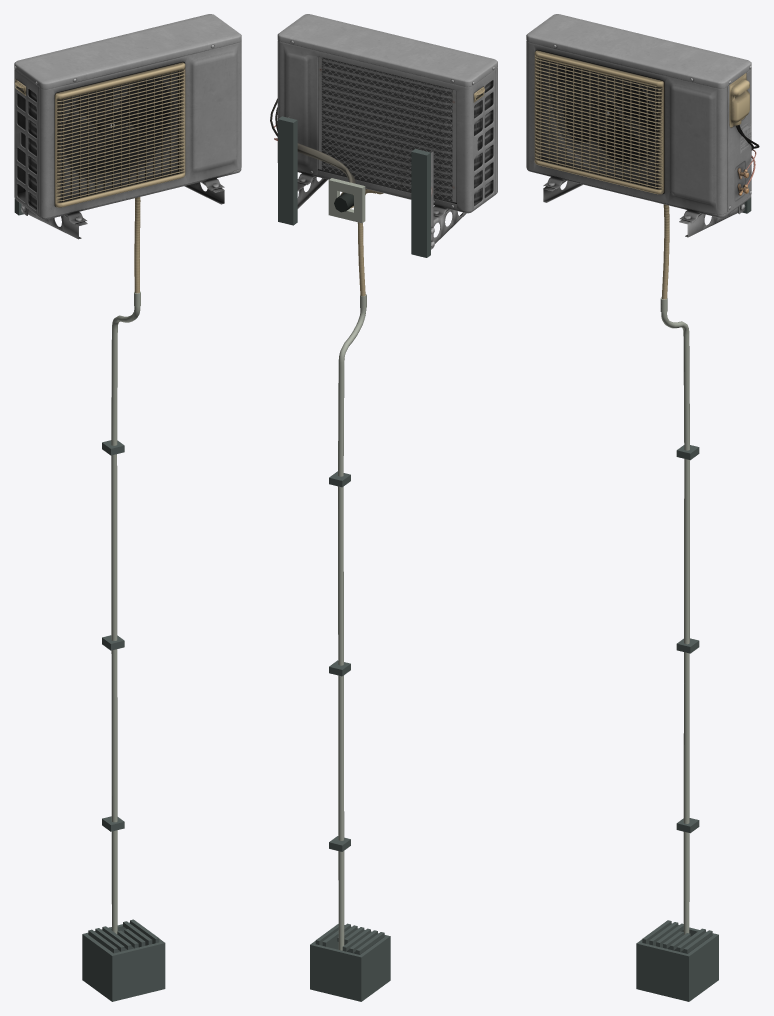
File: wall-installation.glb
The picture shows the model from 3 angles, left to right: view 1: azimuth 30°, elevation 25°; view 2: azimuth 150°, elevation 25°; view 3: azimuth 330°, elevation 25°; orthographic projection. The views are drawn at different scales.
Visible parts, largest first — view 1: VW10_AirconInstallation; view 2: VW10_AirconInstallation; view 3: VW10_AirconInstallation.
Part boxes in pixels (x1=…): VW10_AirconInstallation: x1=14, y1=14, x2=241, y2=1001; VW10_AirconInstallation: x1=270, y1=14, x2=497, y2=1001; VW10_AirconInstallation: x1=526, y1=14, x2=759, y2=1001.
Size of the model in its own units: 0.8 by 3.43 by 0.4221.
Materials: 5 (2 with a texture image).
